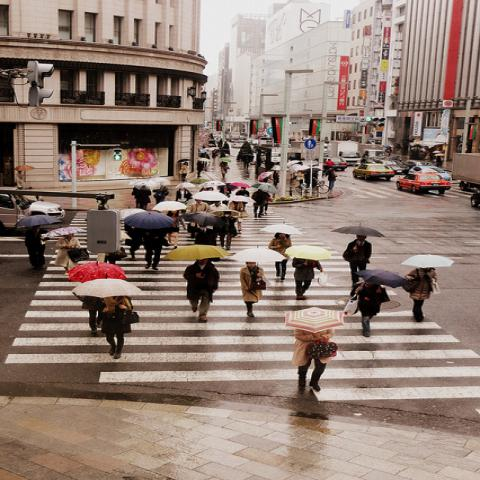car: (0, 186, 68, 230), (395, 172, 452, 194), (407, 165, 451, 180), (373, 158, 411, 174), (354, 164, 396, 177), (324, 156, 348, 171), (261, 152, 281, 165), (406, 159, 434, 168), (467, 191, 479, 207), (231, 140, 244, 147)
truck: (451, 152, 479, 192), (330, 140, 364, 168)
